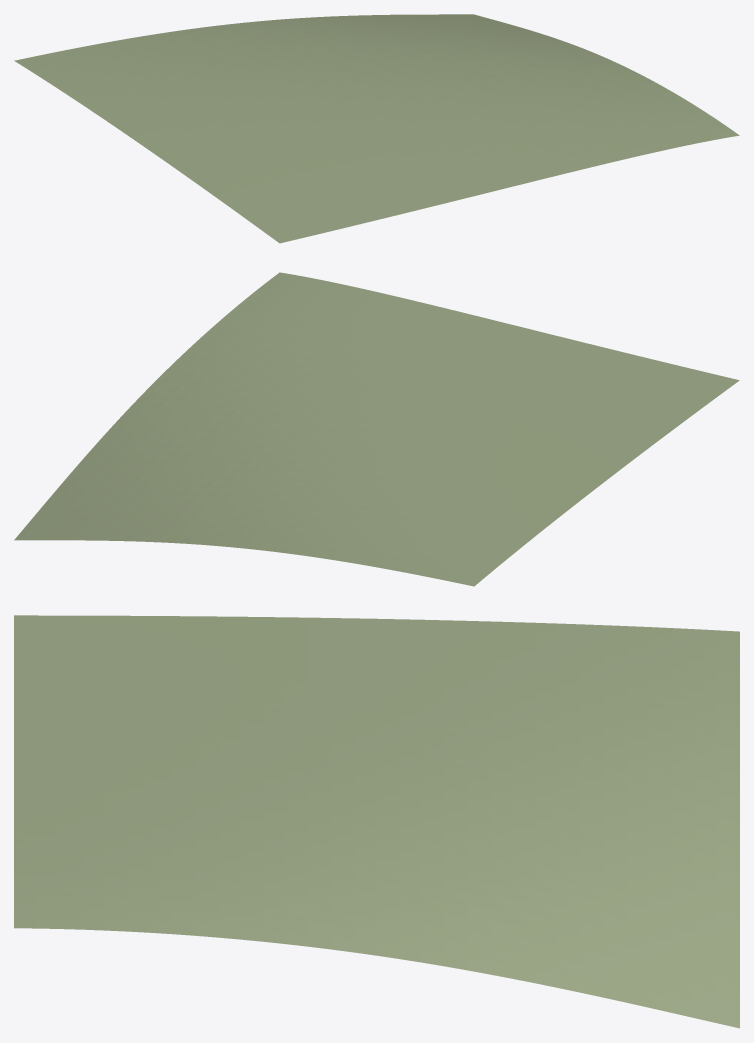
File: expanse-11-14.glb
The picture shows the model from 3 angles, top to bottom: view 1: azimuth 30°, elevation 25°; view 2: azimuth 150°, elevation 25°; view 3: azimuth 270°, elevation 25°; orthographic projection. The views are drawn at different scales.
Visible parts, largest first — view 1: expanse-11-14; view 2: expanse-11-14; view 3: expanse-11-14.
Boxes of the visible parts, left/top/right/bottom form: expanse-11-14: left=14, top=14, right=739, bottom=243; expanse-11-14: left=14, top=272, right=739, bottom=586; expanse-11-14: left=14, top=615, right=739, bottom=1028.
Size of the model in its own units: 256 by 41.42 by 256.
